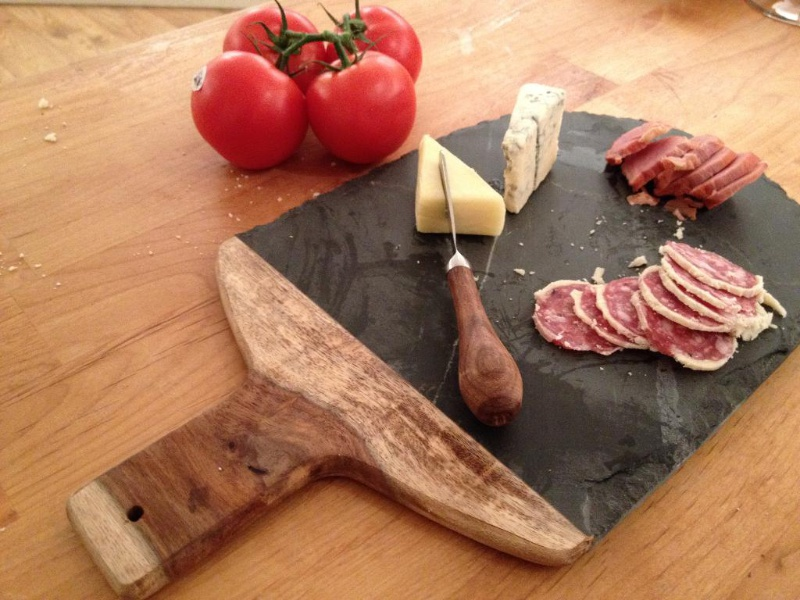knife: (432, 145, 527, 426)
